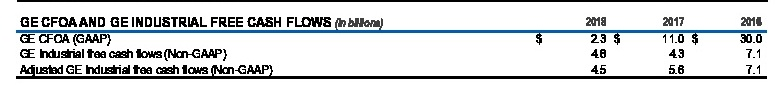table: (0, 0, 779, 85)
